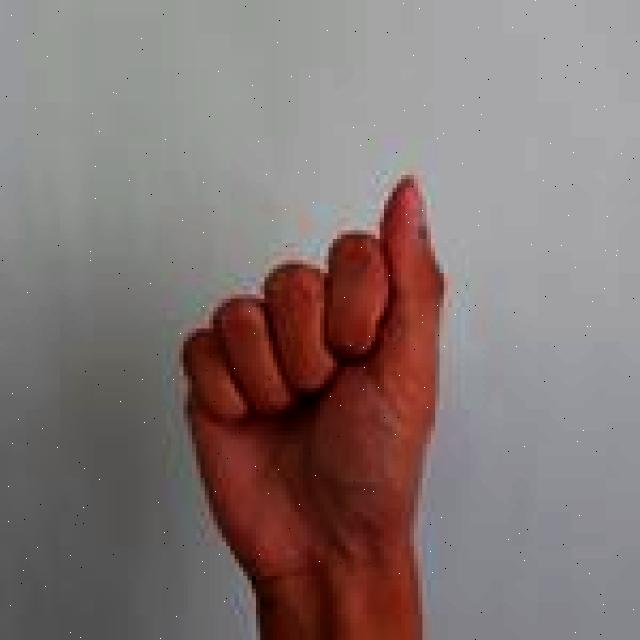A: (172, 160, 458, 640)
